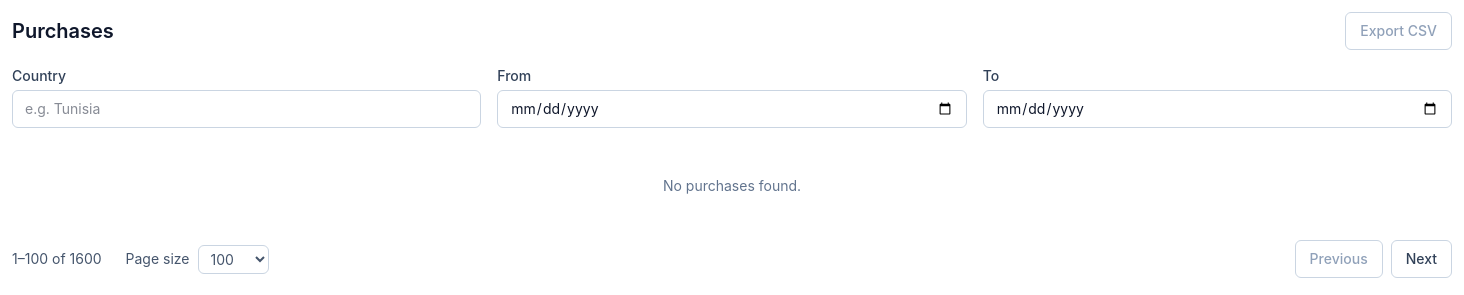
Test: PurchasesPage › resets to the first page when filters change after paginating
The width and height of the screenshot is (1464, 295).
expect the text "1–100 of 1600" is shown: met, box x1=12 y1=249 x2=102 y2=269
Click the button "Next" at [1421, 259], box x1=1391 y1=240 x2=1452 y2=278
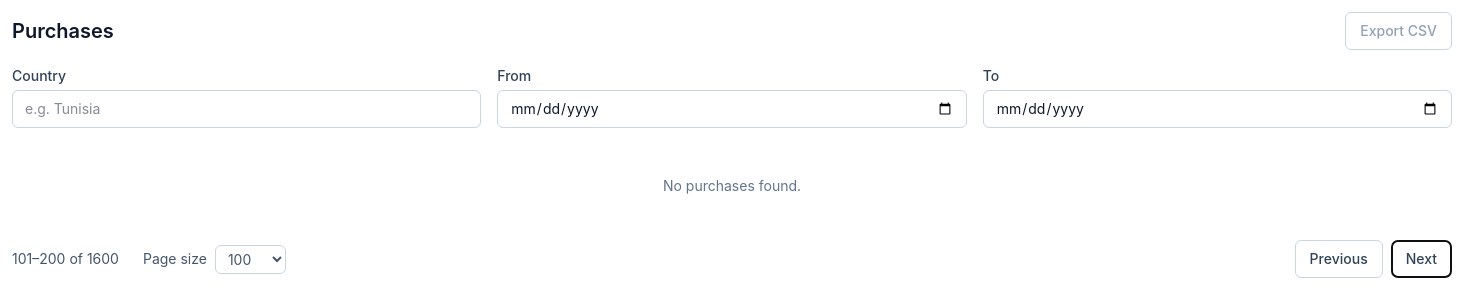
expect the text "101–200 of 1600" is shown: met, box x1=12 y1=249 x2=119 y2=269
Type "Tunisia" into the field labelled "Country" at [247, 109], box x1=12 y1=90 x2=481 y2=128
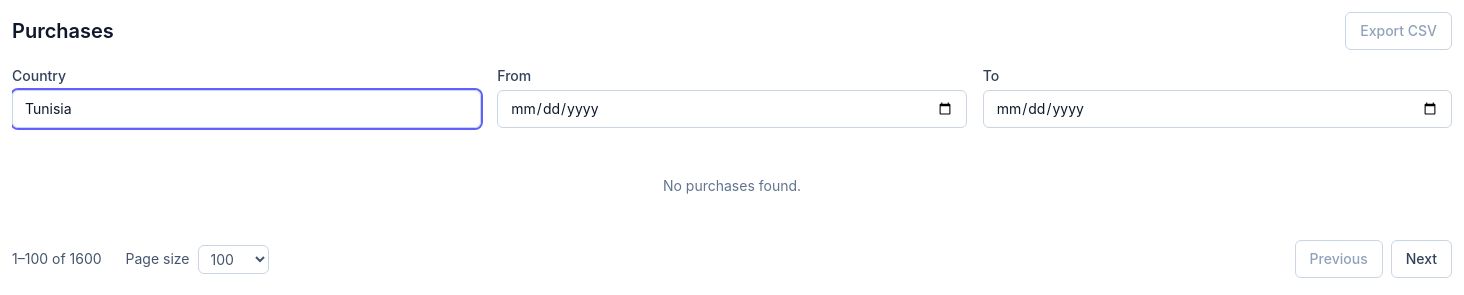
expect the text "1–100 of 1600" is shown: met, box x1=12 y1=249 x2=102 y2=269
